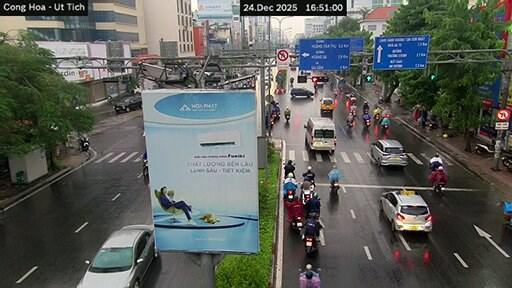motorbike: (299, 264, 321, 287), (301, 181, 314, 204), (475, 140, 495, 154), (304, 236, 316, 254), (501, 150, 511, 171), (290, 216, 302, 231), (301, 189, 312, 204), (79, 136, 89, 151), (434, 182, 445, 195), (330, 180, 339, 192), (286, 189, 295, 201), (142, 159, 148, 177), (272, 110, 279, 120), (373, 114, 380, 123), (381, 124, 388, 132), (350, 108, 356, 116), (347, 120, 353, 128), (364, 119, 370, 127), (285, 113, 290, 122), (345, 93, 351, 100)
